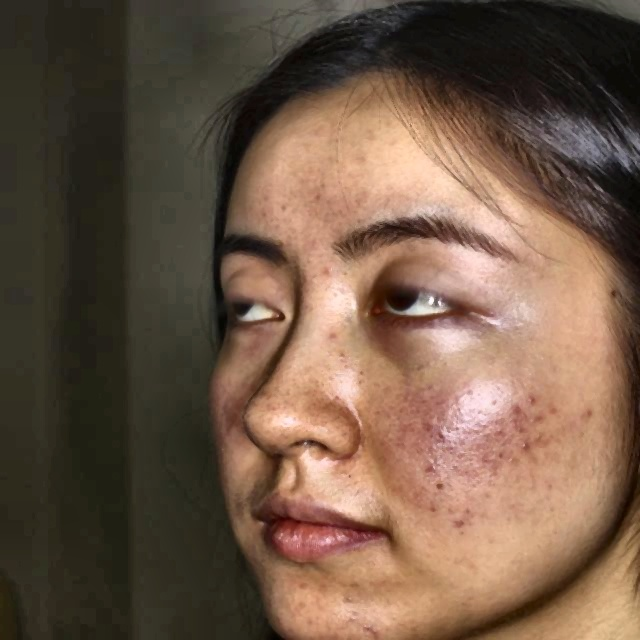pustule: (443, 512, 469, 539), (320, 262, 342, 285), (584, 397, 598, 428), (532, 407, 548, 431), (528, 390, 546, 411), (508, 436, 526, 456)
